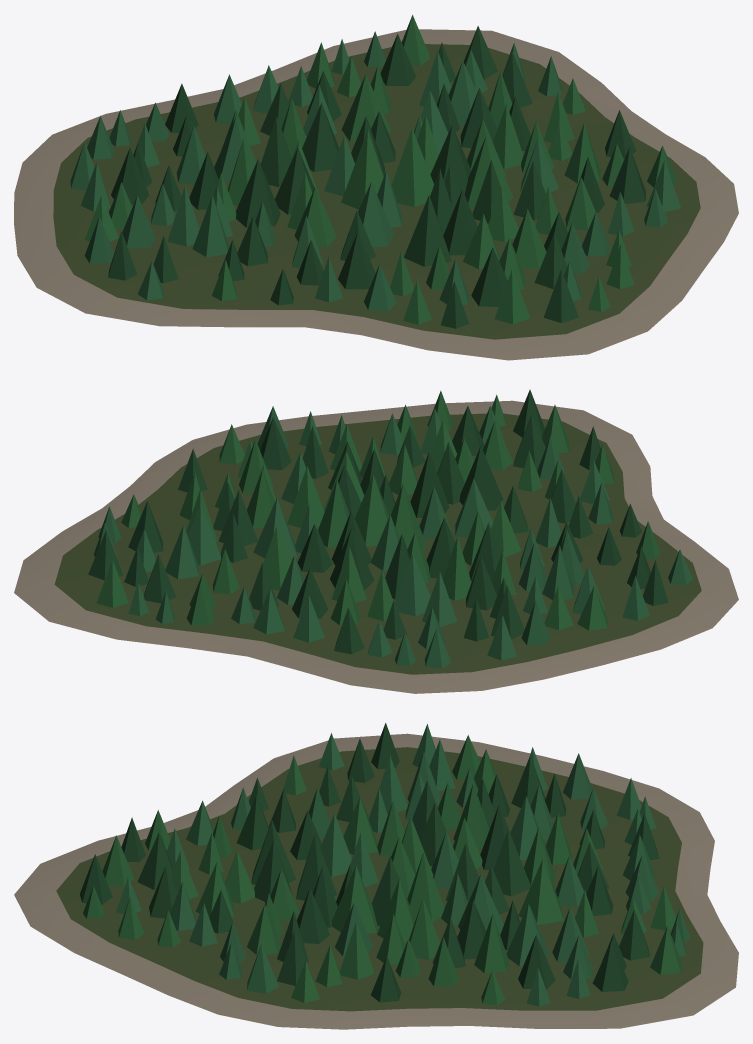
Rendered from forest_patch.glb.
The picture shows the model from 3 angles, top to bottom: view 1: azimuth 30°, elevation 25°; view 2: azimuth 150°, elevation 25°; view 3: azimuth 270°, elevation 25°; orthographic projection. The views are drawn at different scales.
Visible parts, largest first — view 1: body; view 2: body; view 3: body.
Part boxes in pixels (box(x1,y1,x2,y2)): body: box(14, 15, 738, 360); body: box(14, 389, 738, 693); body: box(14, 723, 738, 1029).
Size of the model in its own units: 131 by 15.11 by 136.
